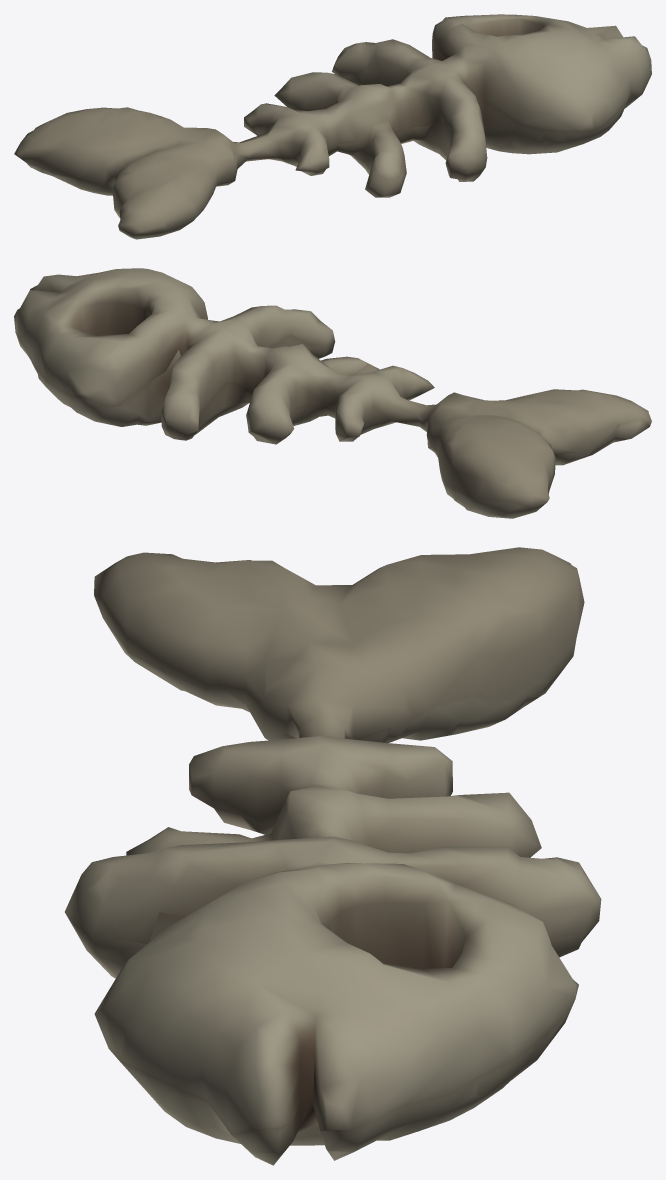
File: fish_bone.glb
3 views of the same model, one above another, from view 1: azimuth 30°, elevation 25°; view 2: azimuth 150°, elevation 25°; view 3: azimuth 270°, elevation 25° (orthographic). The views are drawn at different scales.
Parts seen in each view (by area): view 1: geometry_0; view 2: geometry_0; view 3: geometry_0.
Part boxes in pixels (x1,y1,x2,y2): geometry_0: (14, 14, 651, 239); geometry_0: (14, 268, 651, 518); geometry_0: (65, 547, 601, 1165).
Size of the model in its own units: 1.34 by 0.2575 by 0.5483.
Materials: 1 (1 with a texture image).
